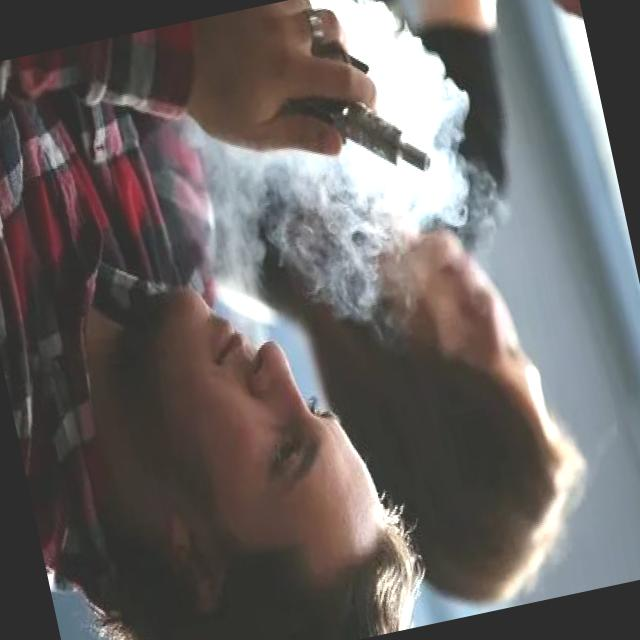smoke: (264, 50, 439, 212)
